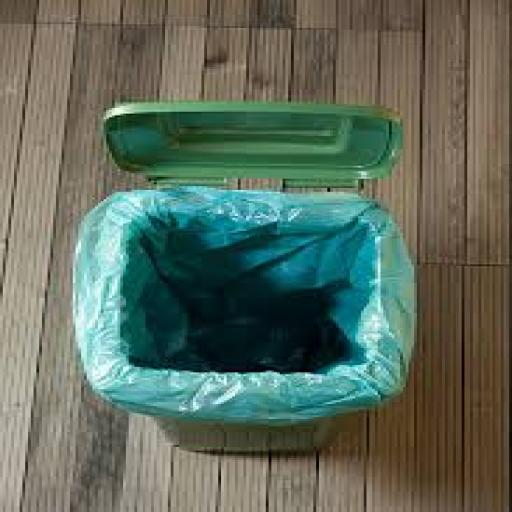poubelle_vide: (32, 58, 478, 468)
